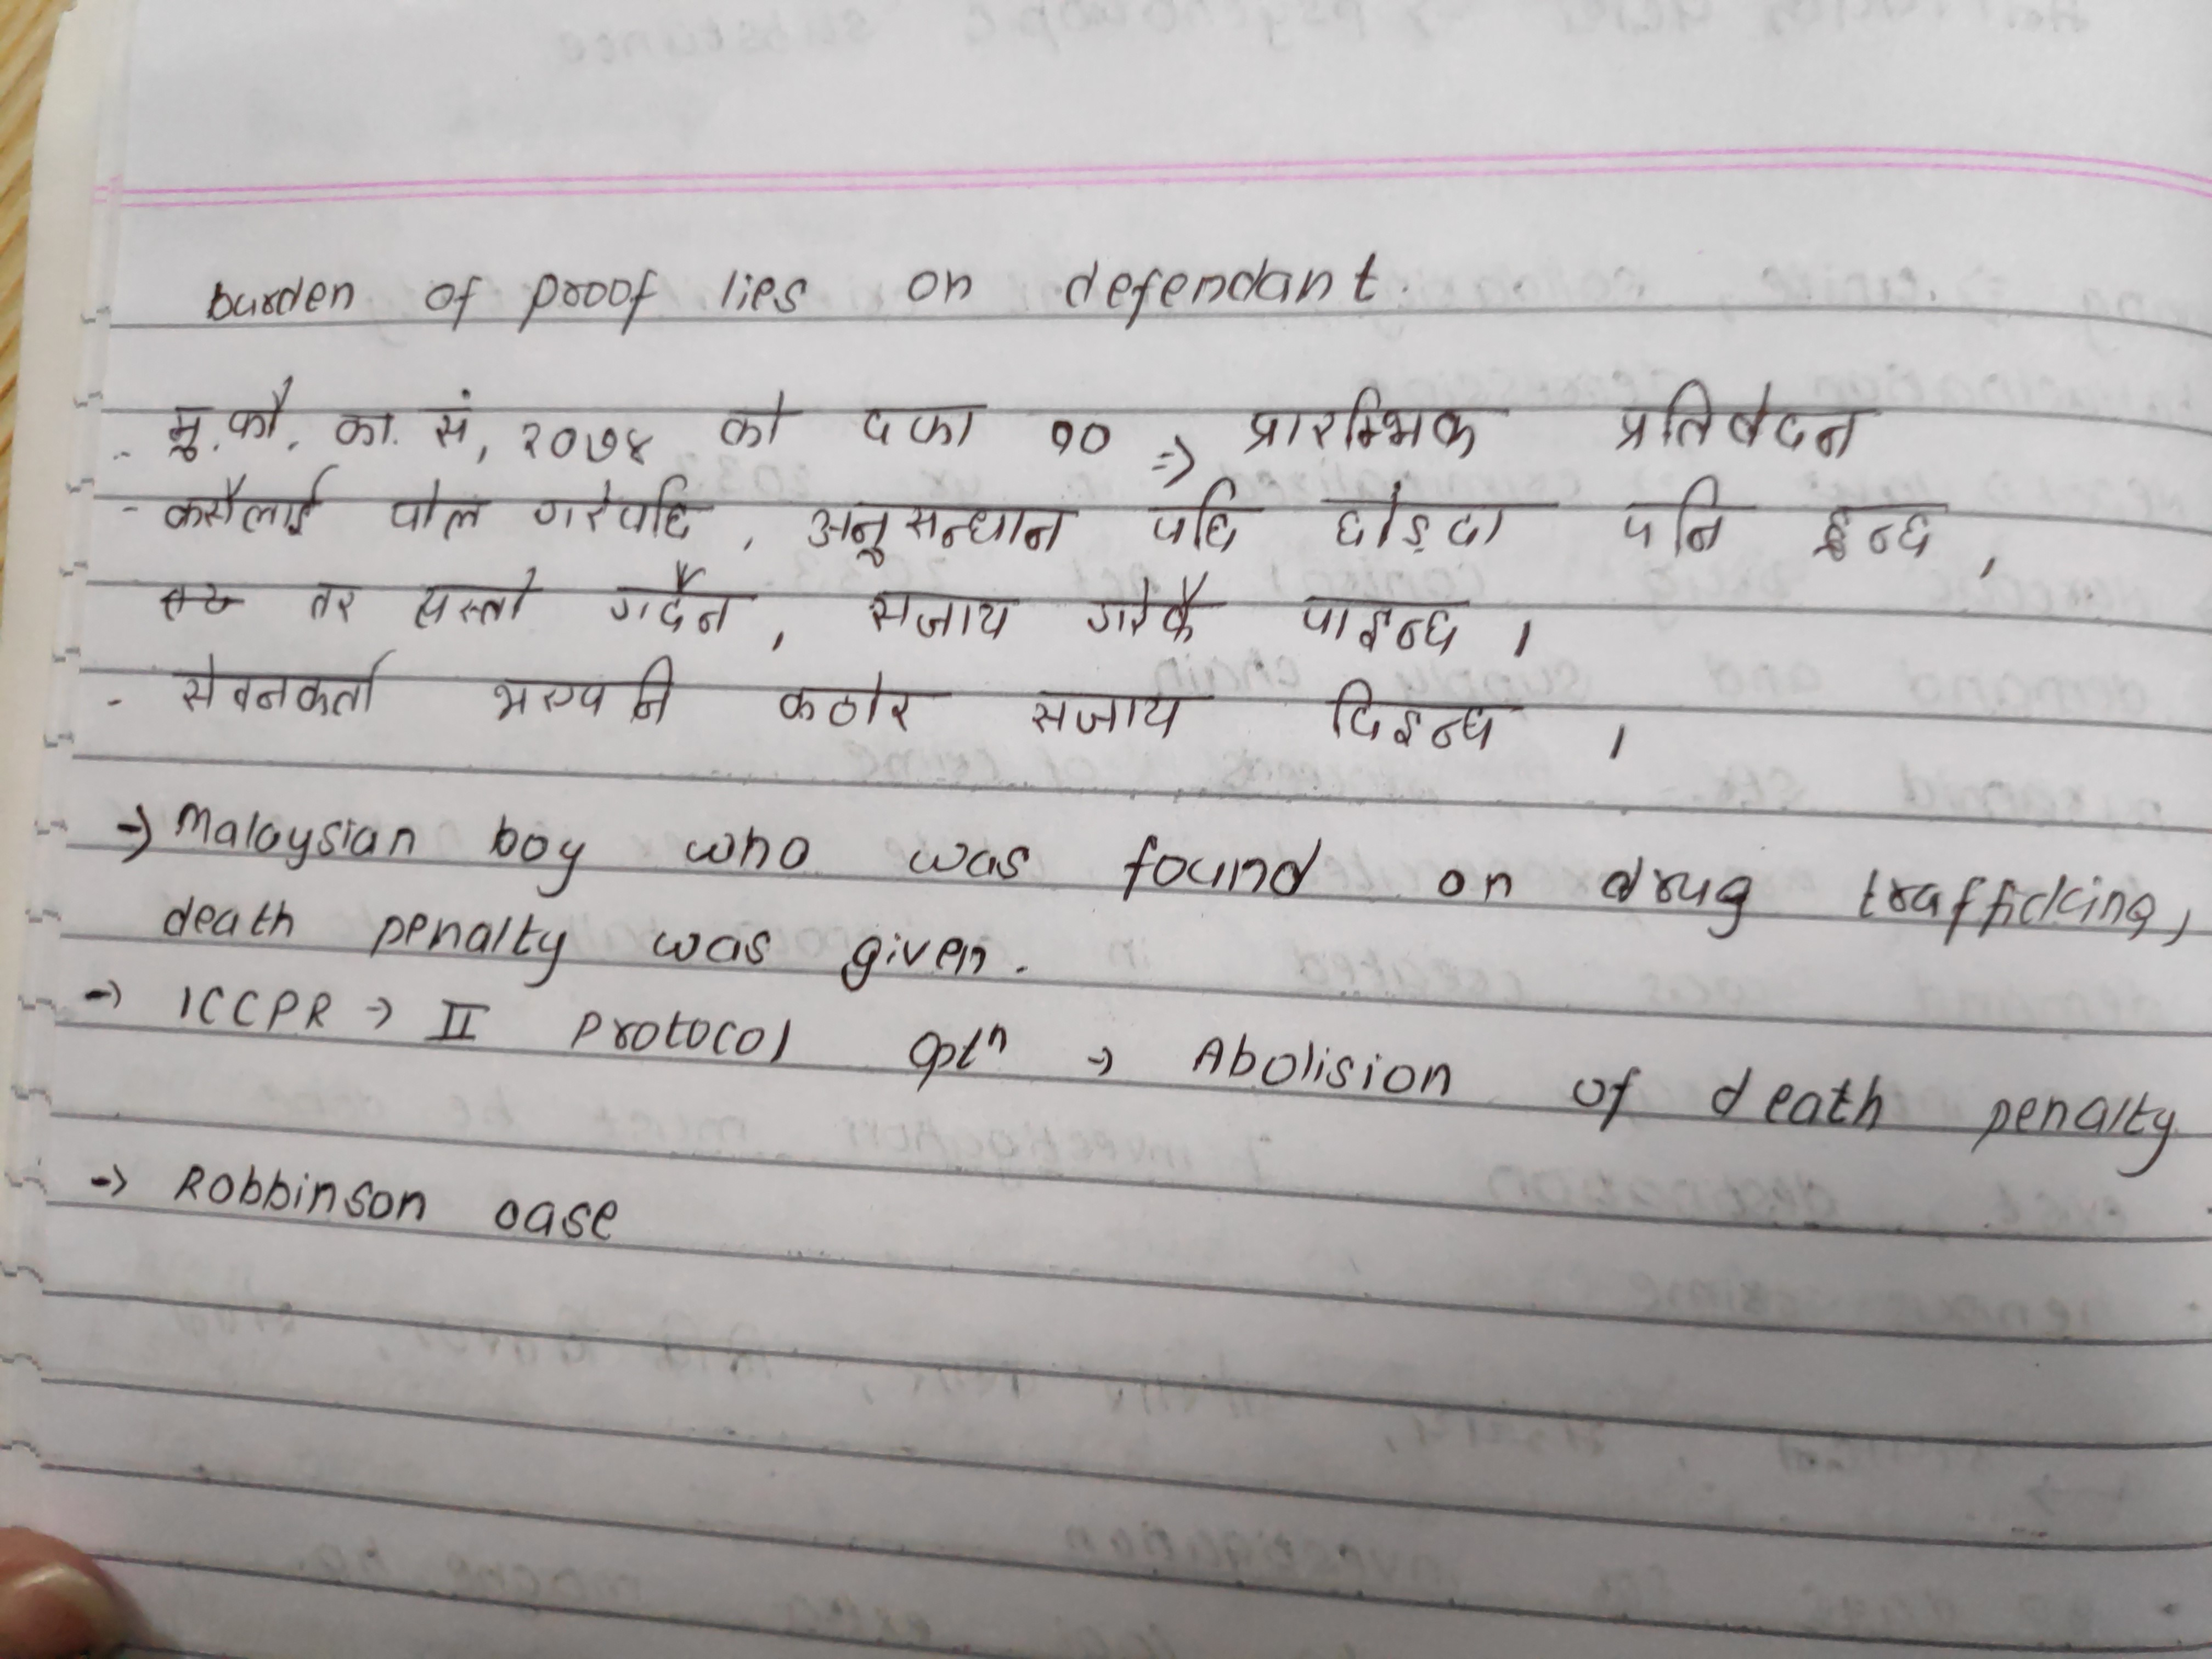text: (1615, 376, 1874, 462), (805, 491, 1082, 570), (1240, 380, 1480, 464), (179, 640, 390, 725), (495, 647, 683, 730), (1327, 479, 1519, 556), (1332, 674, 1500, 756), (529, 472, 709, 547), (164, 479, 340, 545), (1299, 589, 1460, 657), (1622, 472, 1733, 563), (866, 584, 1024, 647), (1029, 681, 1186, 744), (772, 662, 916, 728), (608, 561, 740, 633), (1080, 566, 1205, 640), (1815, 500, 1944, 570), (411, 565, 543, 631), (855, 396, 986, 457), (516, 416, 653, 474), (1148, 481, 1252, 556), (387, 474, 488, 547), (712, 380, 789, 451), (223, 378, 303, 441), (1043, 411, 1122, 462), (327, 401, 399, 455), (427, 382, 479, 455), (162, 397, 207, 469), (308, 579, 368, 633)
